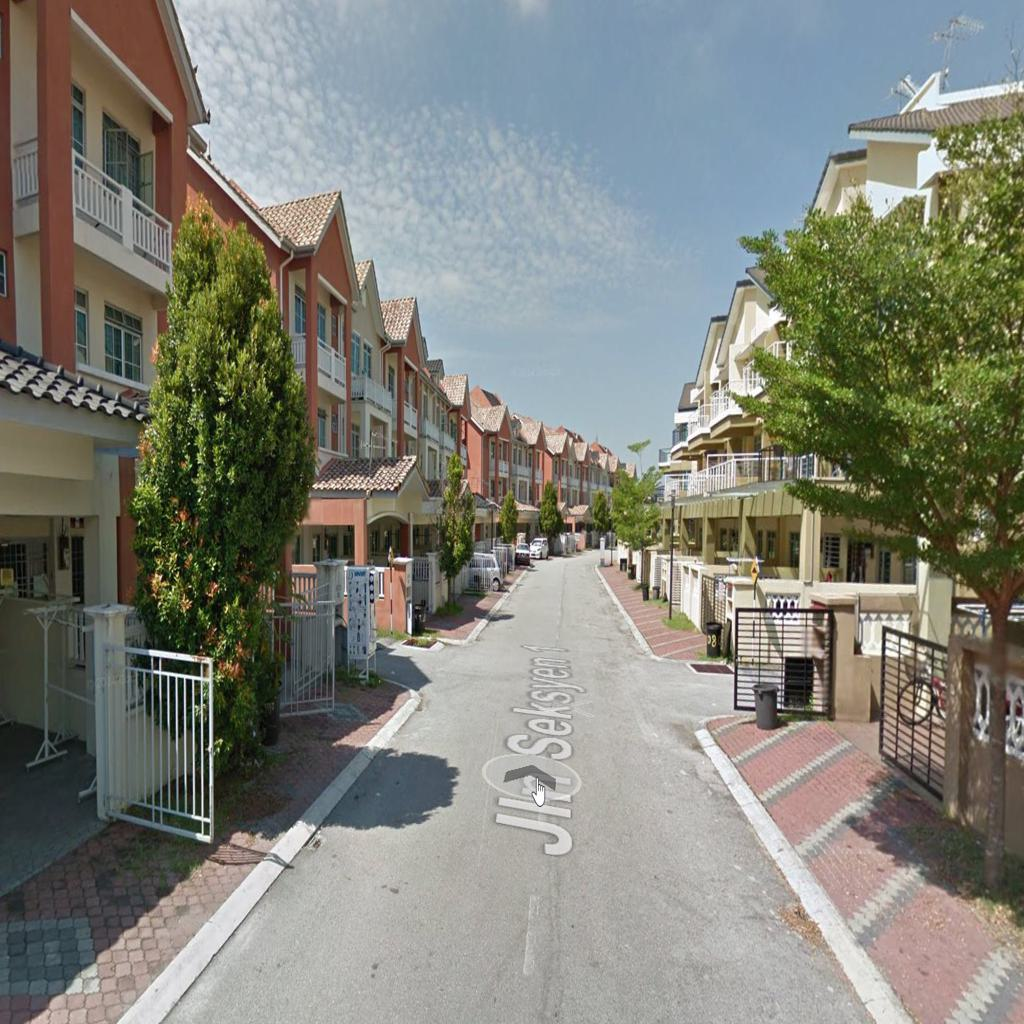Junction: (651, 642, 801, 745), (369, 613, 484, 717)
